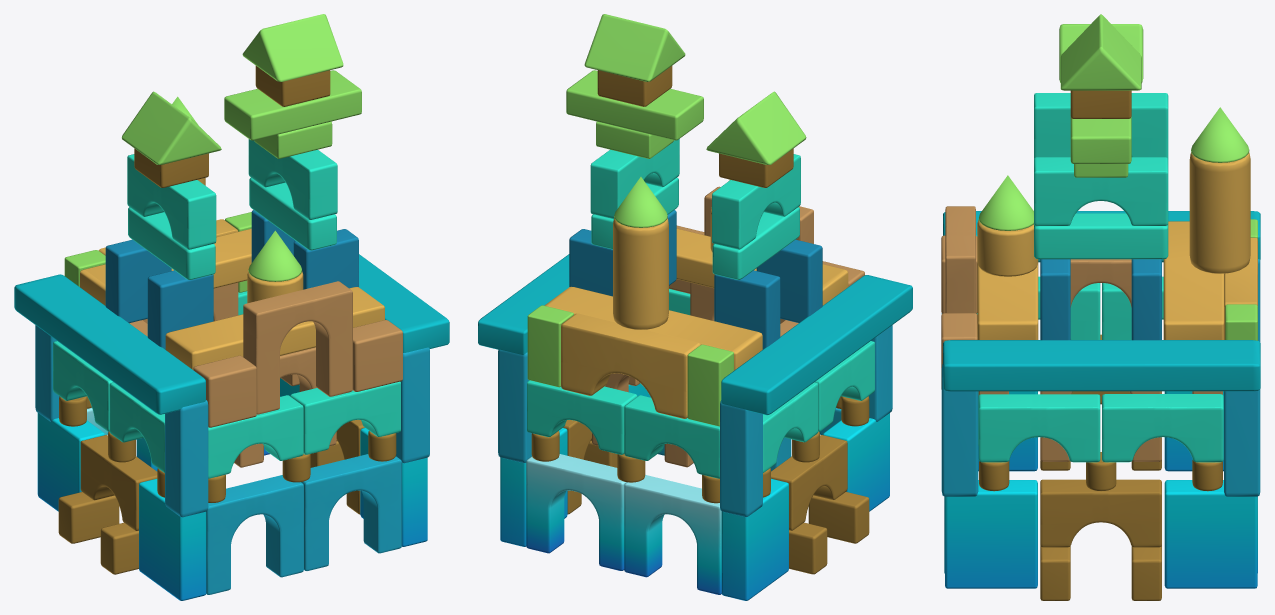
The model's file is lvl_100.fbx.
3 views of the same model, side by side, from view 1: azimuth 30°, elevation 25°; view 2: azimuth 150°, elevation 25°; view 3: azimuth 270°, elevation 25° (orthographic). The views are drawn at different scales.
Parts seen in each view (by area): view 1: Cube_L1_003, Cube_L1_14_003, Cube_L2_27_001, Cube_L2_16_002, Cube_L2_8_002, Cube_L1_18_002, Cube_L1_8_003, Cube_L2_25_001, Cube_L2_4_003, Cube_L1_16_002, Cube_L1_6_003, Cube_L2_18_002 (+34 smaller); view 2: Cube_L1_003, Cube_L2_24_001, Cube_L2_28_001, Cube_L2_17_002, Cube_L2_7_002, Cube_L1_12_003, Cube_L1_18_002, Cube_L2_26_001, Cube_L1_16_002, Cube_L2_19_002, Cube_L2_3_003, Cube_L1_6_003 (+34 smaller); view 3: Cube_L1_24_001, Cube_L2_39, Cube_L2_38, Cube_L2_40, Cube_L2_41, Cube_L1_15_003, Cube_L2_42, Cube_L1_12_003, Cube_L1_9_003, Cube_L1_20_001, Cube_L1_6_003, Cube_L1_16_002 (+29 smaller).
Boxes of the visible parts, left/top/right/bottom form: Cube_L1_003: left=14, top=274, right=205, bottom=414; Cube_L1_14_003: left=243, top=281, right=352, bottom=414; Cube_L2_27_001: left=301, top=454, right=401, bottom=570; Cube_L2_16_002: left=206, top=475, right=303, bottom=594; Cube_L2_8_002: left=139, top=478, right=206, bottom=600; Cube_L1_18_002: left=224, top=70, right=361, bottom=140; Cube_L1_8_003: left=165, top=287, right=384, bottom=369; Cube_L2_25_001: left=290, top=381, right=400, bottom=454; Cube_L2_4_003: left=165, top=400, right=208, bottom=517; Cube_L1_16_002: left=242, top=14, right=343, bottom=81; Cube_L1_6_003: left=127, top=154, right=216, bottom=249; Cube_L2_18_002: left=208, top=395, right=303, bottom=478; Cube_L1_003: left=721, top=275, right=912, bottom=415; Cube_L2_24_001: left=561, top=313, right=700, bottom=418; Cube_L2_28_001: left=526, top=454, right=626, bottom=570; Cube_L2_17_002: left=624, top=475, right=721, bottom=594; Cube_L2_7_002: left=721, top=478, right=788, bottom=600; Cube_L1_12_003: left=613, top=218, right=668, bottom=329; Cube_L1_18_002: left=566, top=70, right=703, bottom=140; Cube_L2_26_001: left=527, top=380, right=637, bottom=454; Cube_L1_16_002: left=584, top=14, right=685, bottom=81; Cube_L2_19_002: left=624, top=395, right=719, bottom=478; Cube_L2_3_003: left=720, top=400, right=762, bottom=517; Cube_L1_6_003: left=712, top=154, right=800, bottom=249; Cube_L1_24_001: left=943, top=340, right=1260, bottom=391; Cube_L2_39: left=1164, top=480, right=1257, bottom=588; Cube_L2_38: left=945, top=480, right=1037, bottom=588; Cube_L2_40: left=978, top=394, right=1100, bottom=462; Cube_L2_41: left=1102, top=394, right=1223, bottom=462; Cube_L1_15_003: left=1034, top=157, right=1168, bottom=225; Cube_L2_42: left=1040, top=479, right=1161, bottom=547; Cube_L1_12_003: left=1189, top=152, right=1250, bottom=273; Cube_L1_9_003: left=1163, top=221, right=1224, bottom=339; Cube_L1_20_001: left=1034, top=213, right=1168, bottom=259; Cube_L1_6_003: left=1034, top=93, right=1168, bottom=158; Cube_L1_16_002: left=1060, top=14, right=1141, bottom=90.
Bounding box in the file's own units: 11.19 × 17.57 × 9.68.
